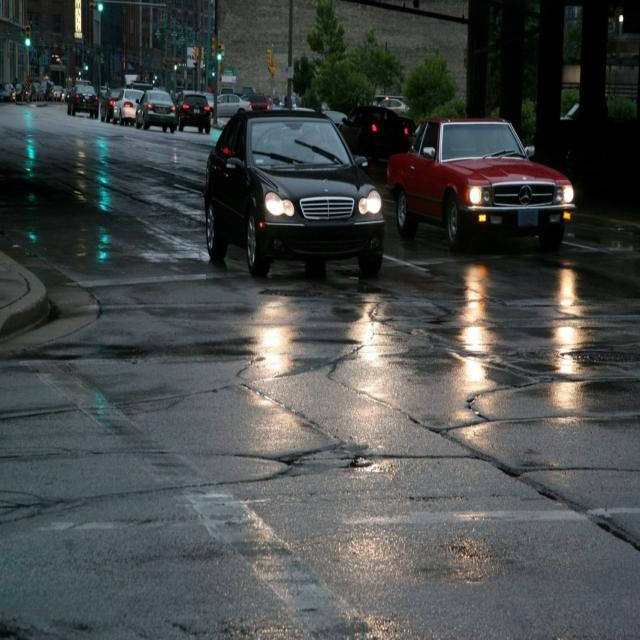car: (202, 110, 388, 280), (387, 117, 573, 251), (136, 89, 180, 132), (175, 92, 213, 134), (111, 88, 145, 126), (65, 79, 95, 115), (214, 92, 250, 115), (242, 87, 272, 114), (100, 87, 114, 122)
